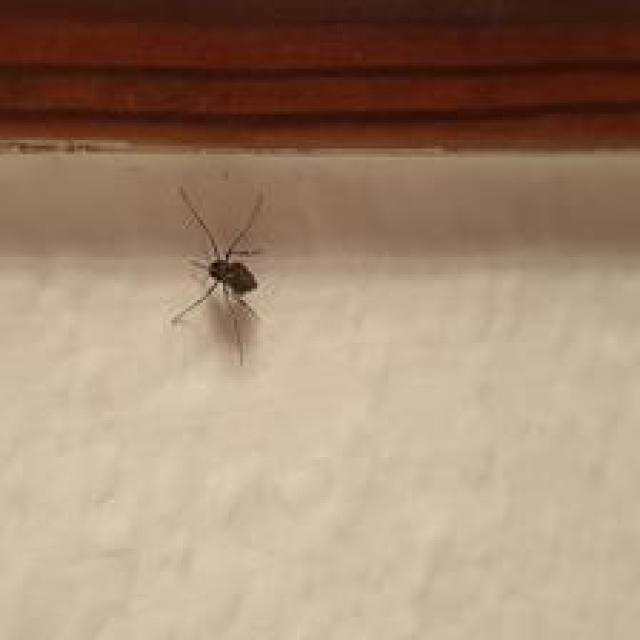Aedes albopictus: (168, 183, 268, 366)
